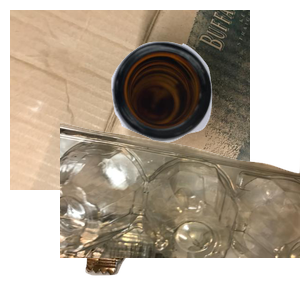cardboard: (10, 10, 250, 190)
glass: (109, 39, 300, 175)
plastic: (60, 120, 300, 300)
trash: (83, 160, 233, 300)
